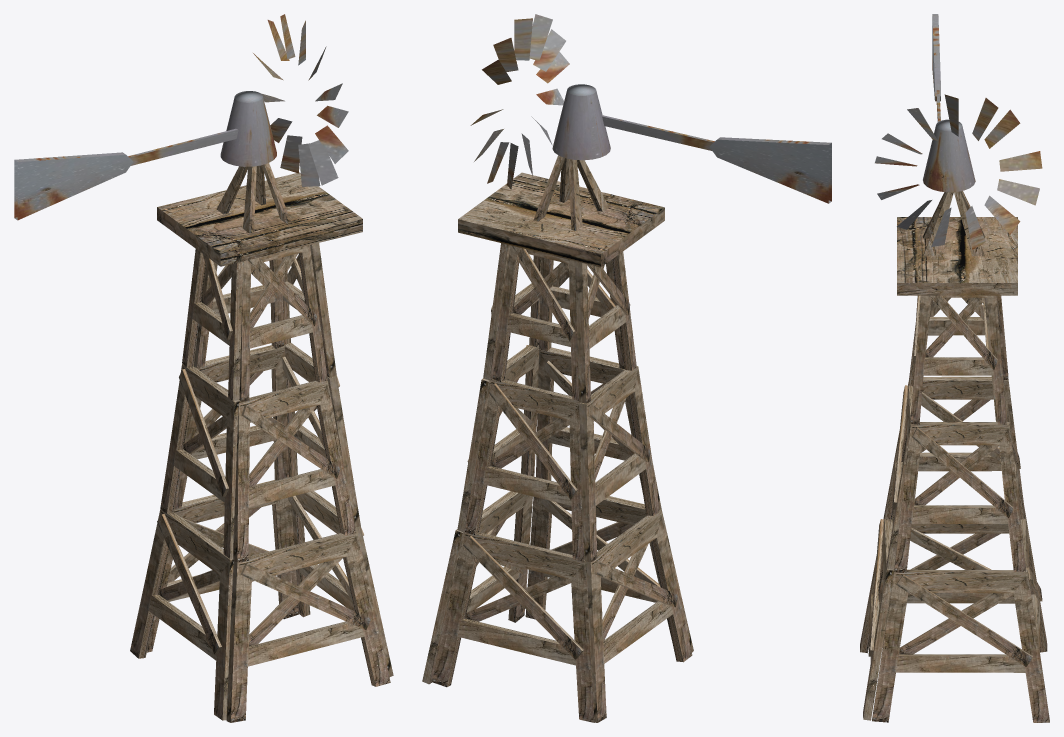
Rendered from Windmill.fbx.
The picture shows the model from 3 angles, left to right: view 1: azimuth 30°, elevation 25°; view 2: azimuth 150°, elevation 25°; view 3: azimuth 270°, elevation 25°; orthographic projection. The views are drawn at different scales.
Parts seen in each view (by area): view 1: WindmillMain__8_, WindmillFloor, WindmillMain__7_, WindmillMain__10_, WindmillFlapper, WindmillMain__9_, WindmillFan, WindmillMain__6_, WindmillMain__11_, WindmillMain__3_, WindmillMain__4_, WindmillCone (+17 smaller); view 2: WindmillFloor, WindmillMain__4_, WindmillMain__10_, WindmillMain__3_, WindmillMain__9_, WindmillFlapper, WindmillFan, WindmillMain, WindmillMain__5_, WindmillMain__11_, WindmillMain__1_, WindmillCone (+16 smaller); view 3: WindmillMain, WindmillFloor, WindmillMain__1_, WindmillFan, WindmillMain__2_, WindmillMain__9_, WindmillCone, WindmillMain__8_, WoodDiagFront, WindmillMain__10_, WindmillMain__7_, WoodDiagFront_1 (+16 smaller).
Boxes of the visible parts, x1,y1,x2,y2 form: WindmillMain__8_: (226,531,390,722); WindmillFloor: (157,172,362,266); WindmillMain__7_: (233,380,355,562); WindmillMain__10_: (130,508,233,720); WindmillFlapper: (14,128,238,220); WindmillMain__9_: (160,364,241,558); WindmillFan: (253,14,348,186); WindmillMain__6_: (239,245,327,401); WindmillMain__11_: (182,249,243,400); WindmillMain__3_: (174,345,288,509); WindmillMain__4_: (147,480,298,652); WindmillCone: (220,91,276,166); WindmillFloor: (458,172,664,267); WindmillMain__4_: (432,532,594,722); WindmillMain__10_: (586,510,692,722); WindmillMain__3_: (465,379,584,561); WindmillMain__9_: (579,366,659,562); WindmillFlapper: (602,115,831,203); WindmillFan: (470,14,569,189); WindmillMain: (422,491,532,684); WindmillMain__5_: (492,245,578,400); WindmillMain__11_: (575,251,636,403); WindmillMain__1_: (457,344,538,533); WindmillCone: (552,84,610,160); WindmillMain: (872,569,1049,722); WindmillFloor: (897,217,1017,295); WindmillMain__1_: (894,422,1025,572); WindmillFan: (875,94,1042,249); WindmillMain__2_: (910,295,1006,424); WindmillMain__9_: (893,376,1023,516); WindmillCone: (923,119,975,192); WindmillMain__8_: (860,515,894,720); WoodDiagFront: (896,574,1032,666); WindmillMain__10_: (879,516,1046,646); WindmillMain__7_: (884,381,913,569); WoodDiagFront_1: (912,427,1013,518).
Size of the model in its own units: 984 by 1731 by 491.
